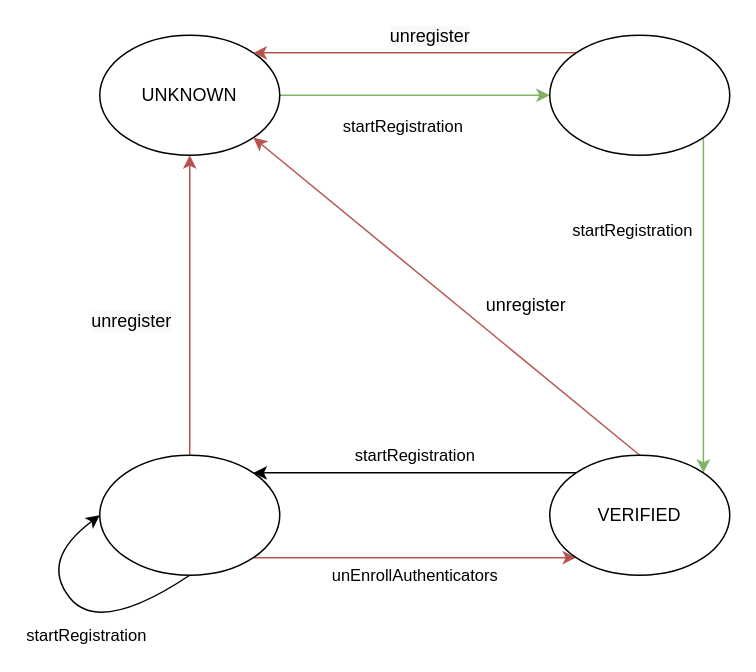
The diagram is 756 pixels wide and 672 high, and some of its shapes have lost their labels. The centre of each missing label's shape, as x and y in pixels:
ENROLLED: the point at 189,514
REGISTERED: the point at 639,94
